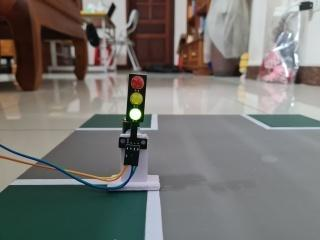green: (122, 57, 149, 131)
